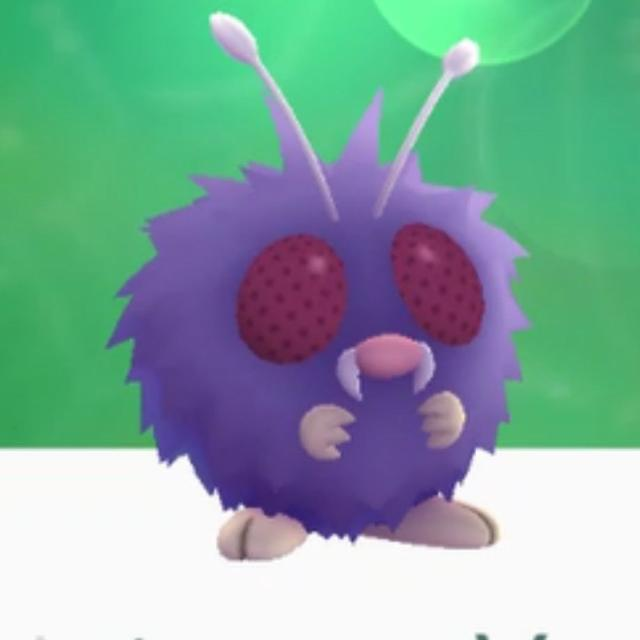Venonat: (124, 115, 520, 558)
